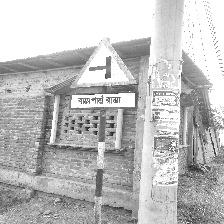Side-road-left: (70, 37, 137, 108)
